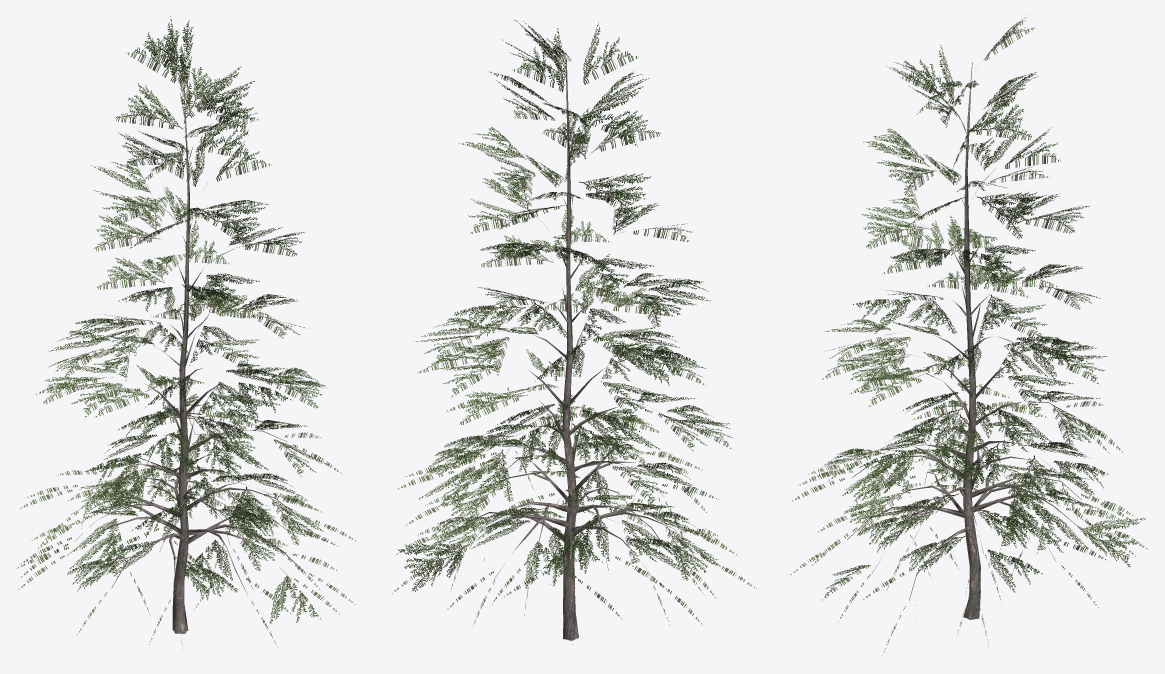
Rendered from fir.glb.
3 views of the same model, side by side, from view 1: azimuth 30°, elevation 25°; view 2: azimuth 150°, elevation 25°; view 3: azimuth 270°, elevation 25° (orthographic). The views are drawn at different scales.
Parts seen in each view (by area): view 1: m; view 2: m; view 3: m.
Part boxes in pixels (box(x1,y1,x2,y2)): m: box(16, 16, 355, 649); m: box(392, 19, 756, 644); m: box(789, 17, 1148, 655).
Size of the model in its own units: 0.5438 by 1 by 0.5386.
2 materials, 2 textured.
